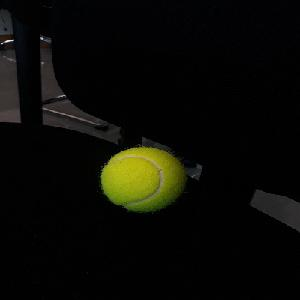Ball: (101, 146, 187, 212)
